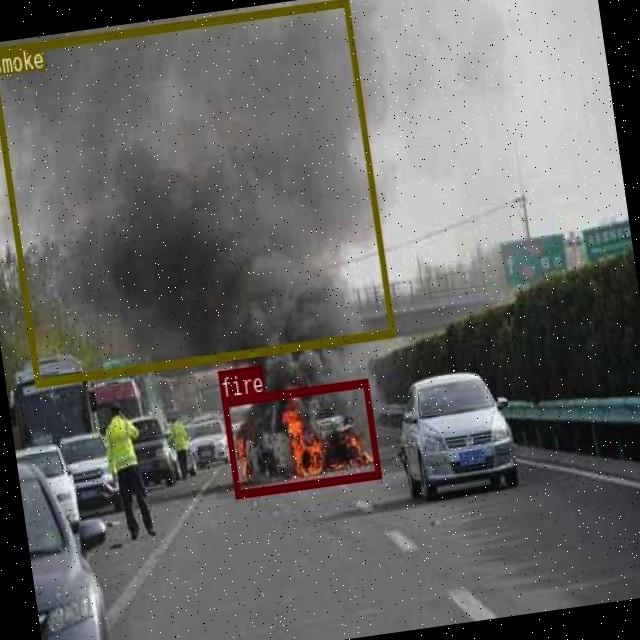fire: (220, 378, 380, 497)
smoke: (0, 0, 395, 385)
